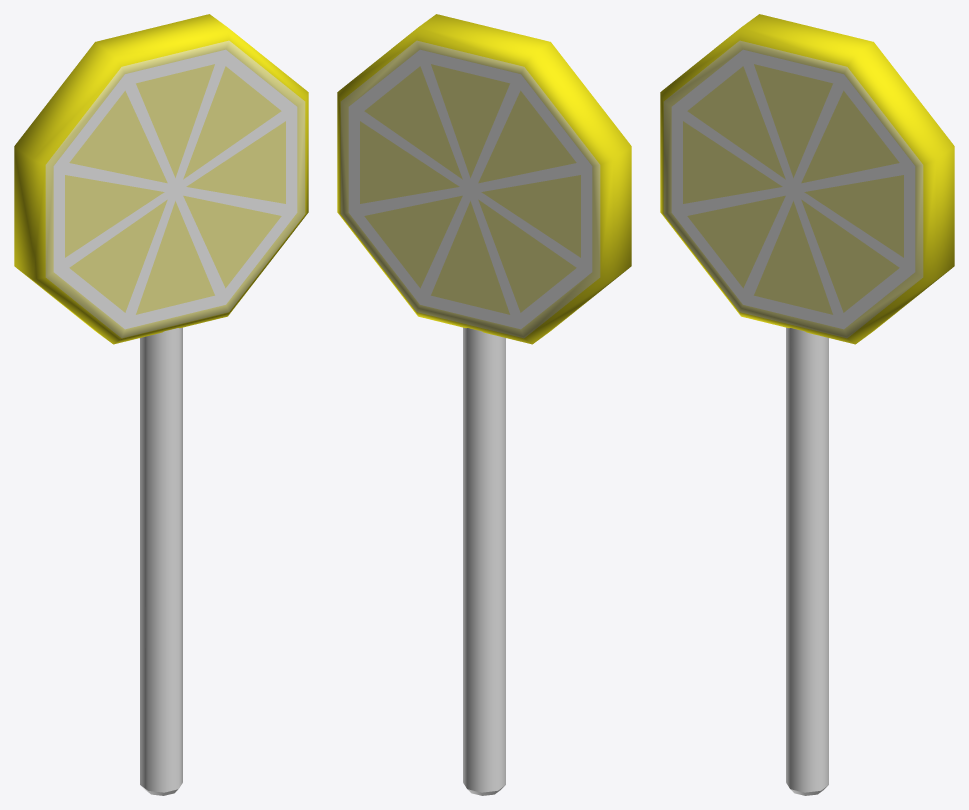
Rendered from Candy_14.fbx.
3 views of the same model, side by side, from view 1: azimuth 30°, elevation 25°; view 2: azimuth 150°, elevation 25°; view 3: azimuth 330°, elevation 25° (orthographic).
Visible parts, largest first — view 1: Candy_14; view 2: Candy_14; view 3: Candy_14.
Boxes of the visible parts, bbox=[...] form: Candy_14: bbox=[14, 14, 308, 795]; Candy_14: bbox=[337, 14, 631, 795]; Candy_14: bbox=[660, 14, 954, 795].
Size of the model in its own units: 1.1 by 2.87 by 0.193.
